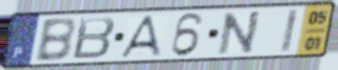6: (169, 11, 205, 59)
A: (117, 14, 164, 60)
B: (70, 15, 118, 61), (33, 16, 77, 64)
I: (278, 7, 301, 55)
N: (216, 9, 263, 56)
